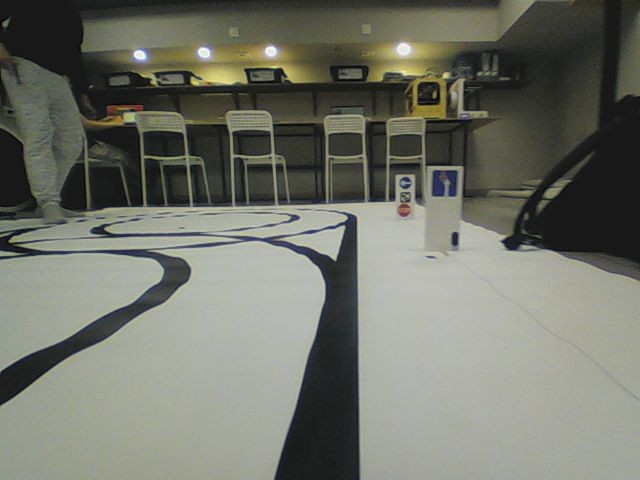priority_movement: (431, 169, 459, 198)
